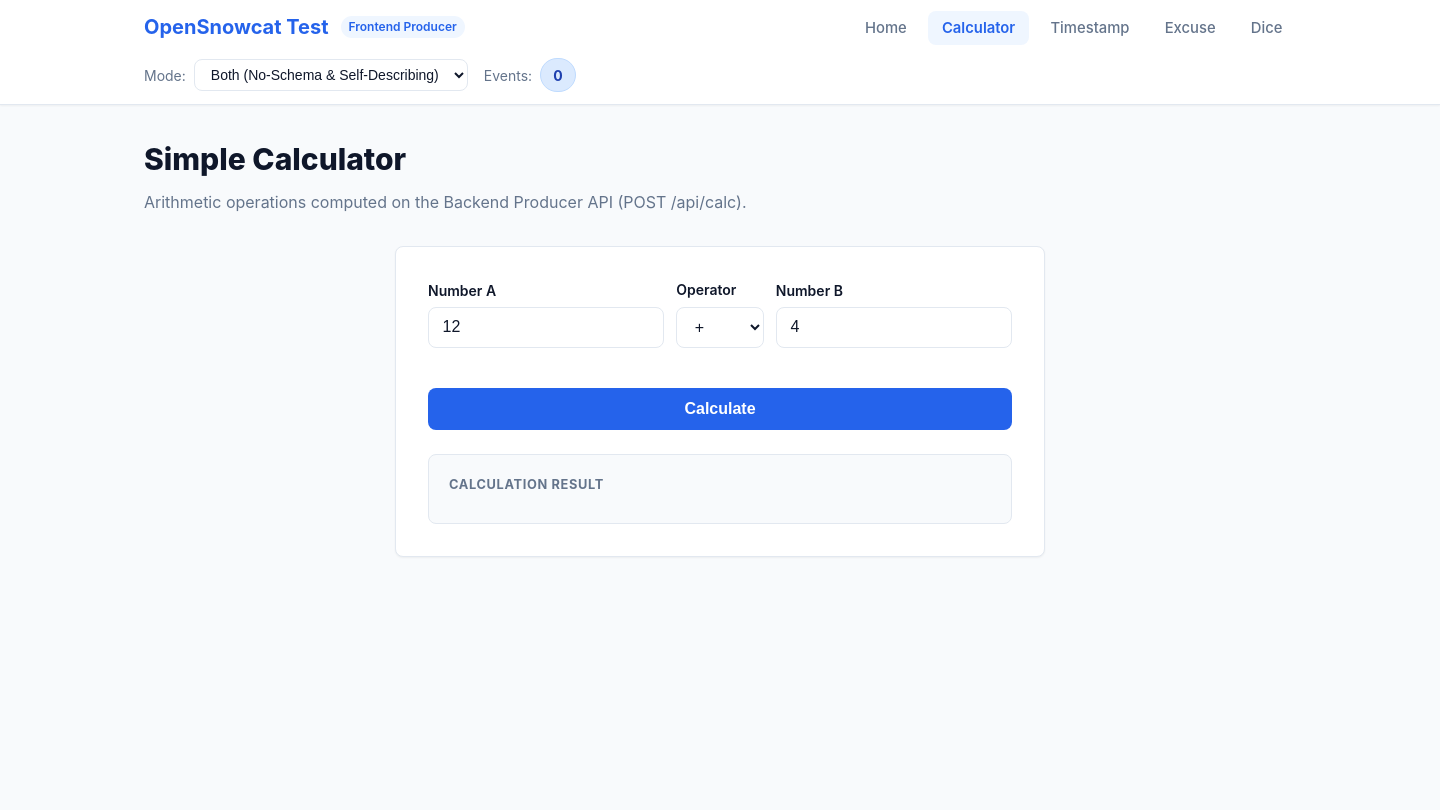
Test: Calculator Service - End-to-End Integration › handles multiplication operation and updates result properly
Replace the text in the number field with test id "calc-input-a" with "7" at [546, 328], box left=428, top=307, right=664, bottom=348
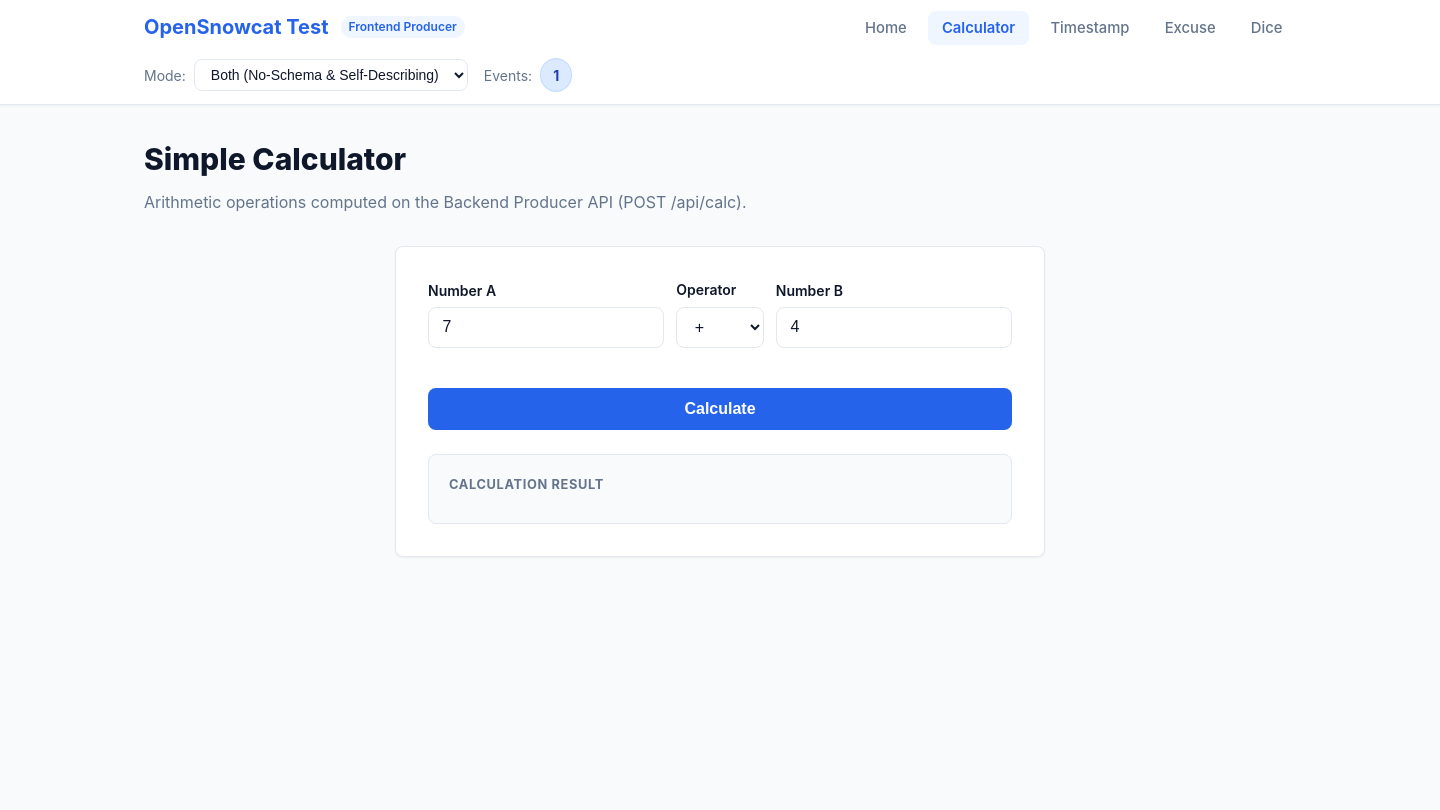
Select "*" in the dropdown with test id "calc-select-op" at [720, 328], box left=676, top=307, right=764, bottom=348
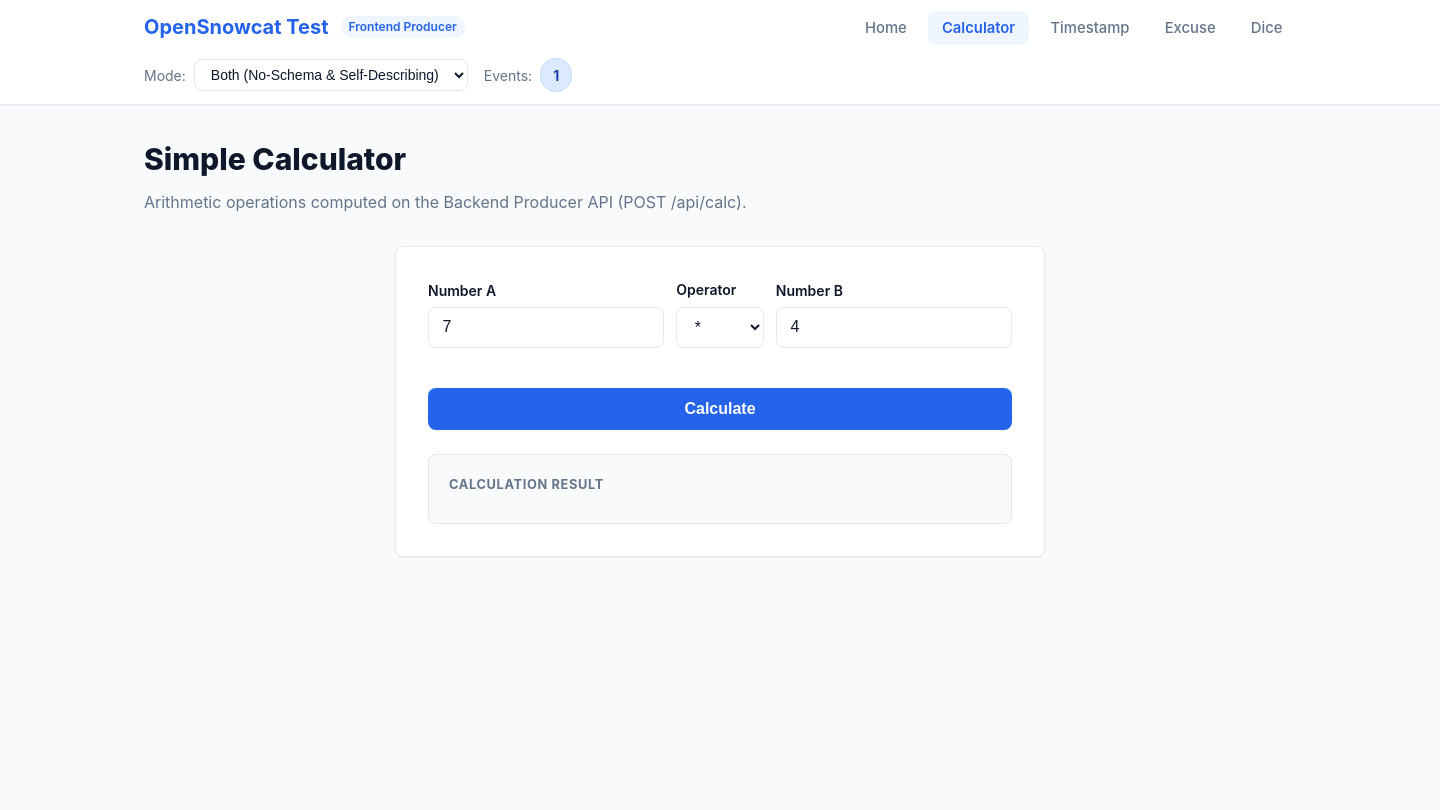
Replace the text in the number field with test id "calc-input-b" with "6" at [894, 328], box left=776, top=307, right=1012, bottom=348
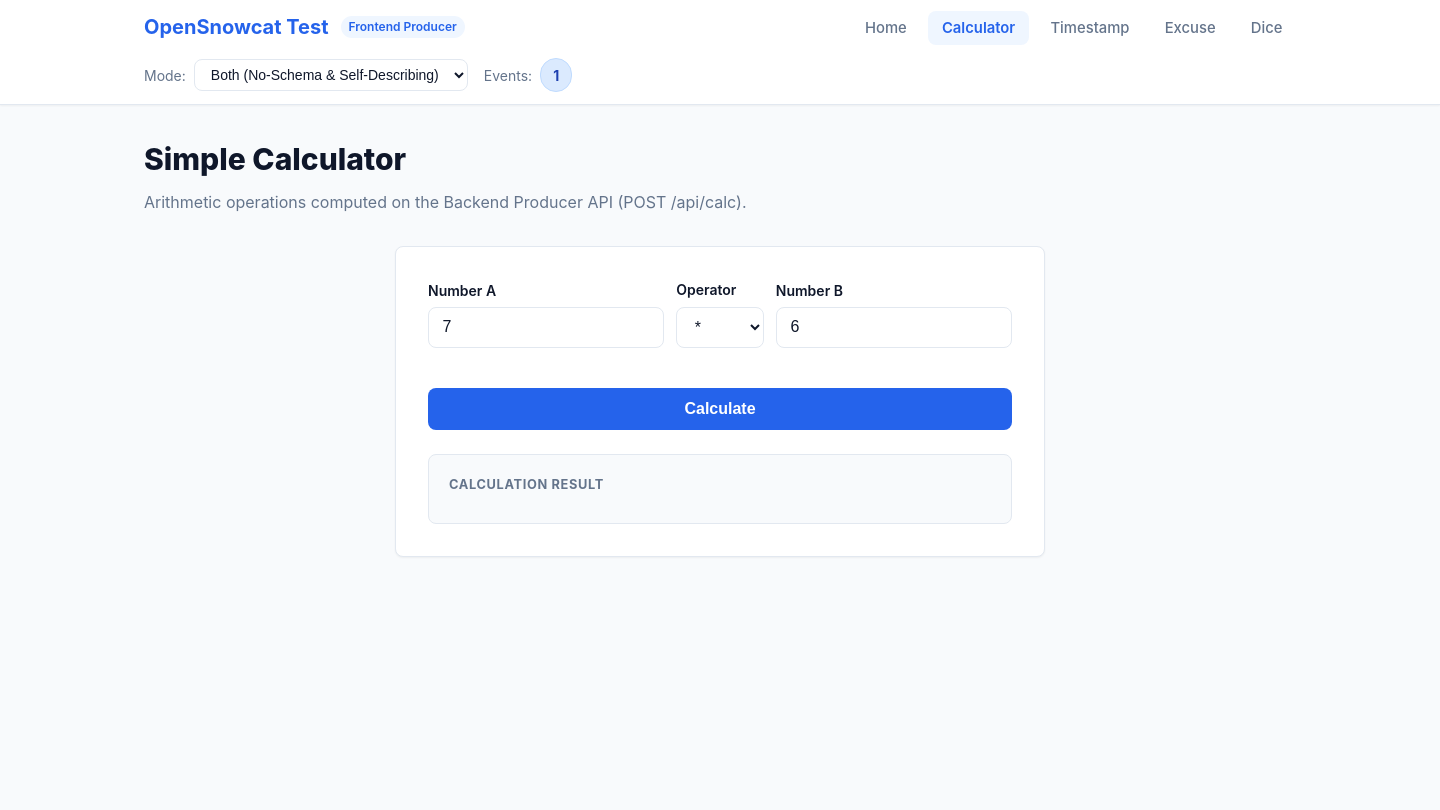
Click the button with test id "btn-calc-submit" at [720, 409], box left=428, top=388, right=1012, bottom=430
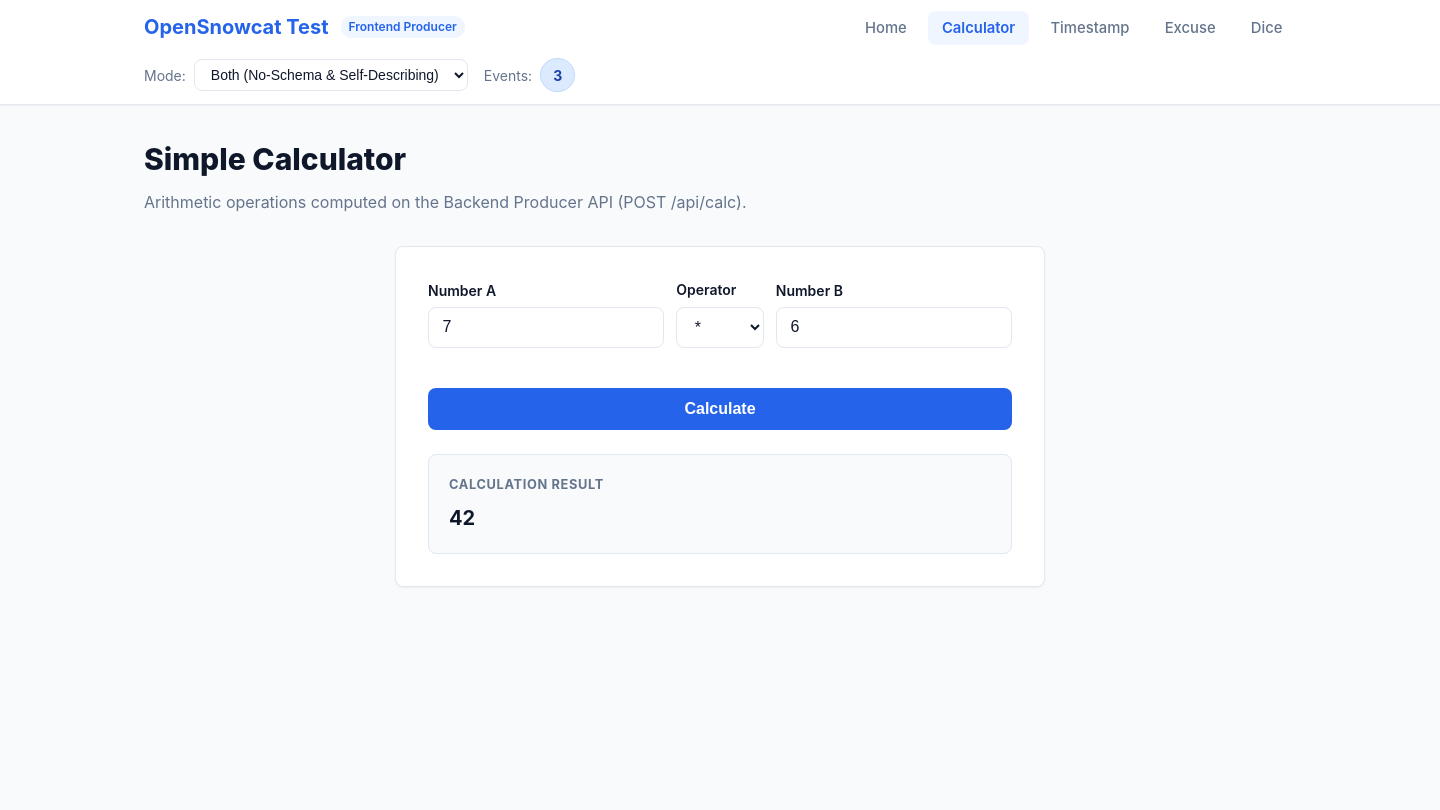
expect the text with test id "calc-result" reads "42": met, box left=449, top=506, right=475, bottom=530
